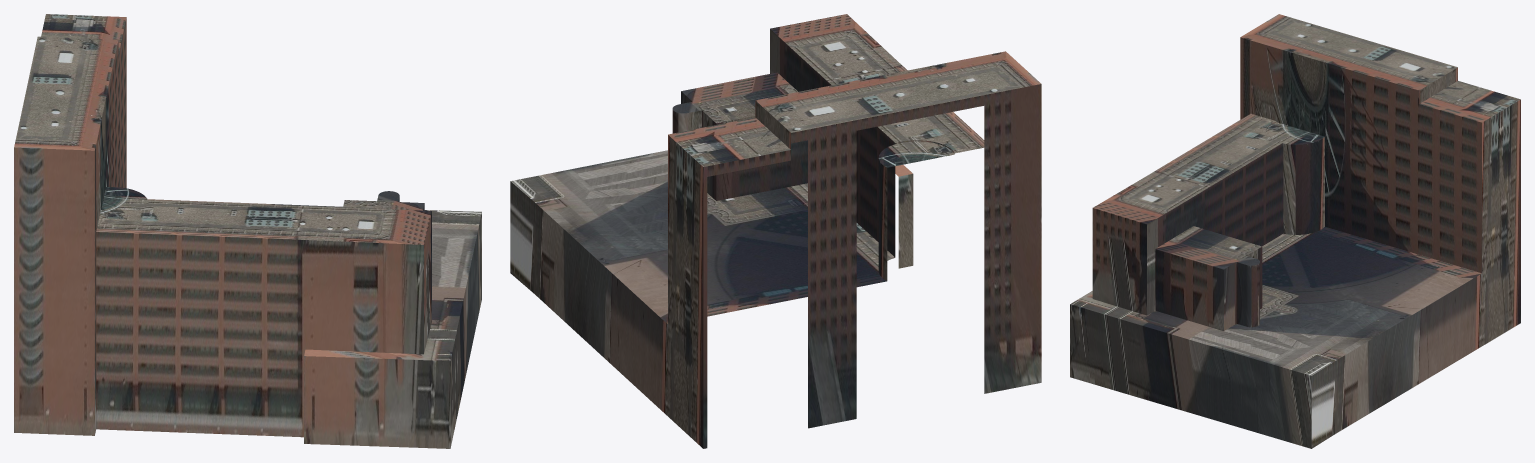
File: {C5CCDB71-0624-4158-932D-530D82125FC4}.gltf
3 renders of one model, left to right at view 1: azimuth 30°, elevation 25°; view 2: azimuth 150°, elevation 25°; view 3: azimuth 270°, elevation 25°, orthographic. The views are drawn at different scales.
Parts seen in each view (by area): view 1: Z_UP; view 2: Z_UP; view 3: Z_UP.
Part boxes in pixels (bbox=[...]): Z_UP: bbox=[14, 14, 481, 448]; Z_UP: bbox=[510, 14, 1041, 448]; Z_UP: bbox=[1070, 14, 1520, 448].
Size of the model in its own units: 93.99 by 52.56 by 90.53.
Materials: 14 (13 with a texture image).
